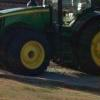Tractor: (7, 3, 100, 68)
